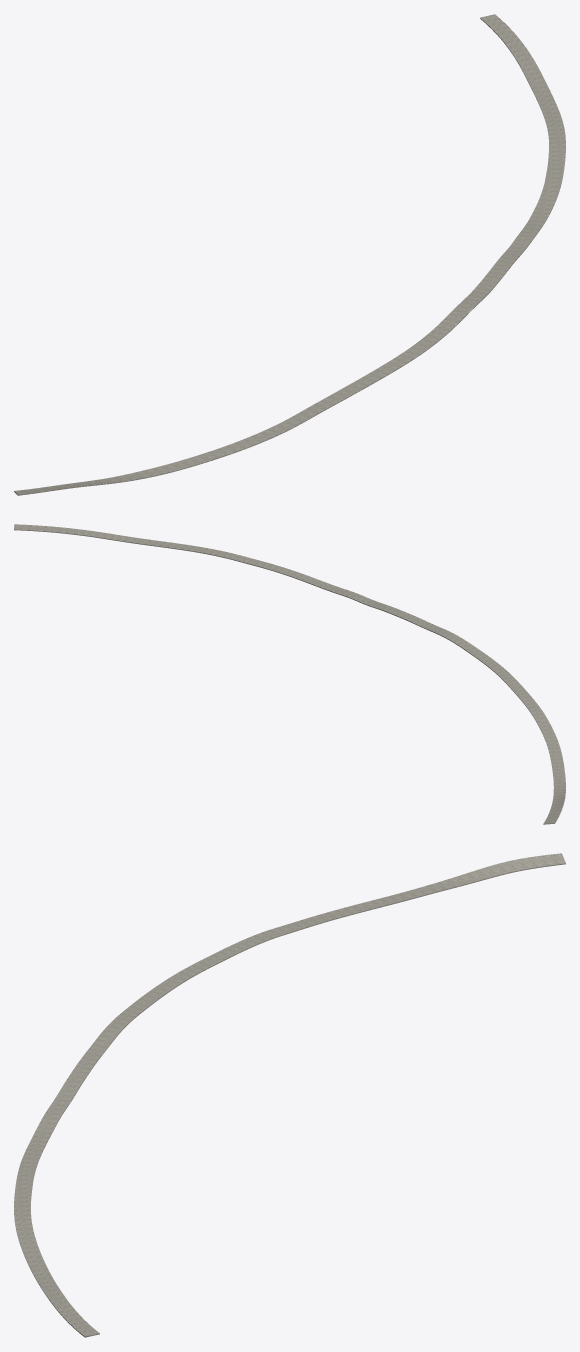
The model's file is sidewalk_01.gltf.
3 views of the same model, one above another, from view 1: azimuth 90°, elevation 25°; view 2: azimuth 150°, elevation 25°; view 3: azimuth 270°, elevation 25° (orthographic). The views are drawn at different scales.
Parts seen in each view (by area): view 1: sidewalk_01.surface, sidewalk_01.sides; view 2: sidewalk_01.surface, sidewalk_01.sides; view 3: sidewalk_01.surface, sidewalk_01.sides.
Part boxes in pixels (box(x1,y1,x2,y2)): sidewalk_01.surface: box(14, 14, 565, 494); sidewalk_01.sides: box(14, 18, 565, 495); sidewalk_01.surface: box(14, 524, 565, 823); sidewalk_01.sides: box(14, 524, 565, 824); sidewalk_01.surface: box(14, 853, 565, 1336); sidewalk_01.sides: box(14, 854, 565, 1337).
Bounding box in the file's own units: 169 × 2.44 × 81.6.
Materials: 1 (1 with a texture image).
